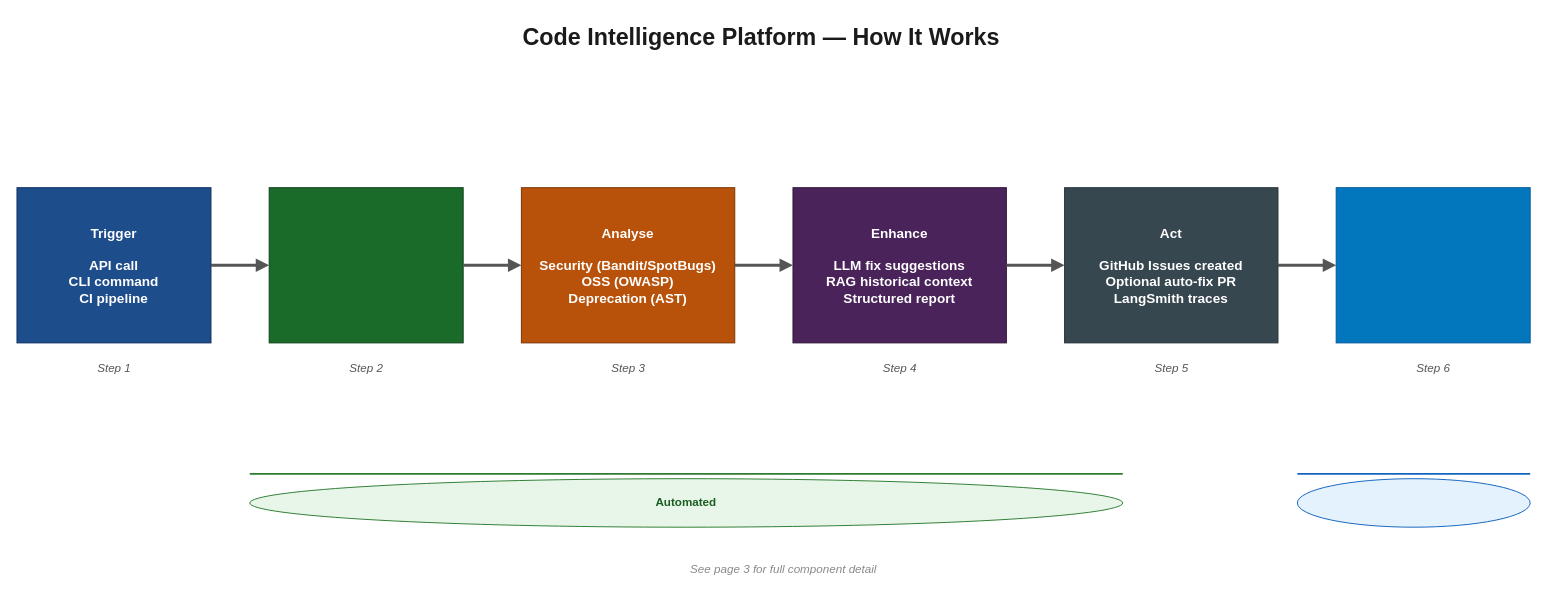
Some shapes in this 1548 by 596 pixel diagram are drawn without their labels. The centre of each missing label's shape, as x and y in pixels:
"Clone & Build git clone --depth 1 Detect language Auto-build Java" belongs at point 365,265.
"Human in the loop" belongs at point 1413,502.
"Review Engineer reviews PR Merge or reject Release gate ✓" belongs at point 1432,265.
